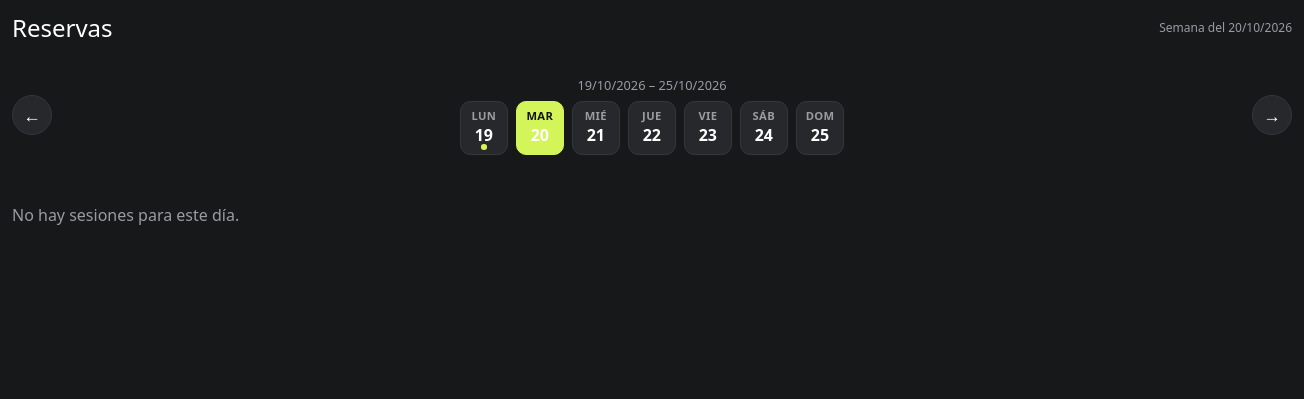
ClassesPage (reservas del socio) › marca la sesión llena cuando no quedan plazas
Step 1. Click the button "Lun 19" → (484, 128), box [460,101,508,155]
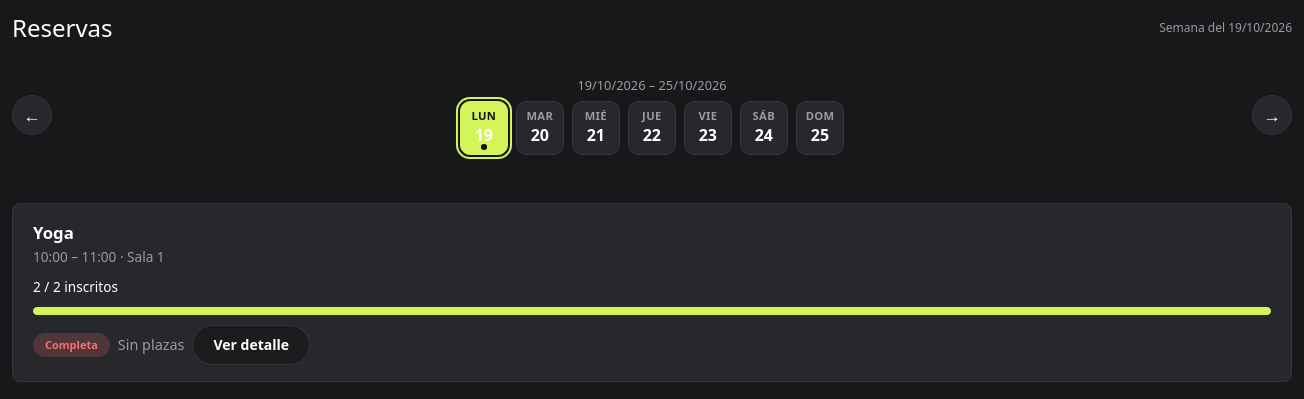
Now the heading "Yoga" is shown, box [33,221,74,244]
Now the text "Completa" is shown, box [33,333,110,357]
